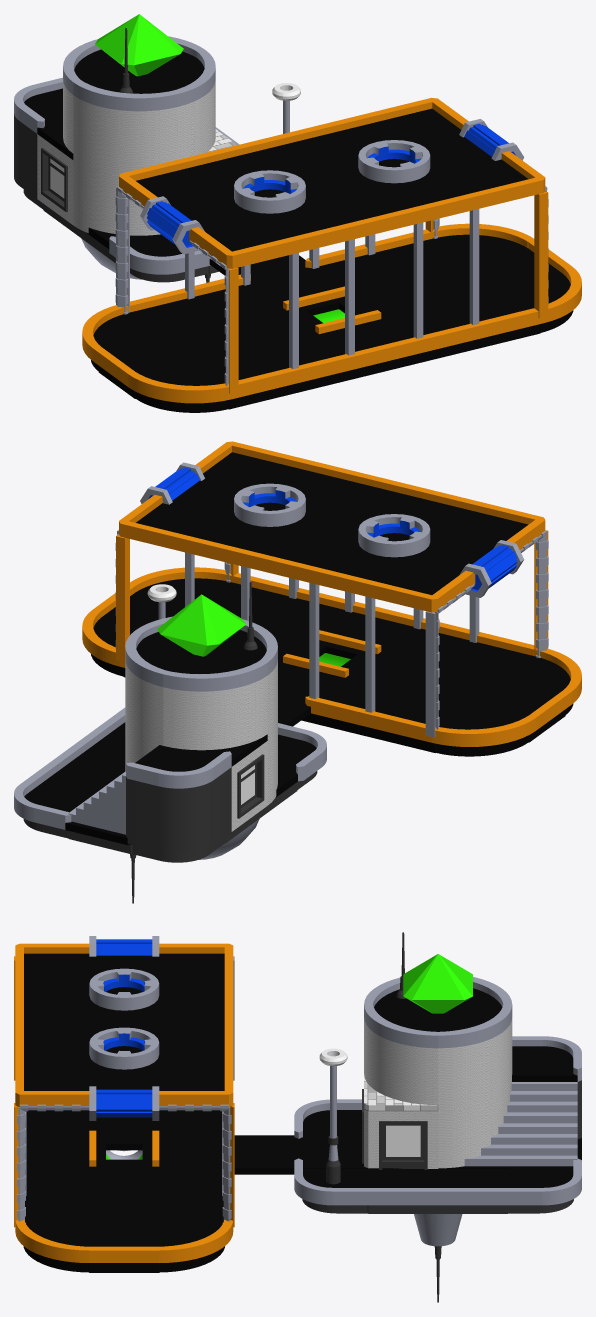
Rendered from MiniStop.obj.
3 renders of one model, top to bottom at view 1: azimuth 30°, elevation 25°; view 2: azimuth 150°, elevation 25°; view 3: azimuth 270°, elevation 25°, orthographic. The views are drawn at different scales.
Parts seen in each view (by area): view 1: roof_flatSide, roof_flatSideRound%, wall_cornerRounded%, roof_flat, roof_flatCorner, columns_large, turbine_edges%, roof_flatSideBevel, wall, quoin_simple, roof_flatHole, clipBarrel_large (+5 smaller); view 2: roof_flatSide, roof_flatSideRound%, roof_flatCorner, wall_cornerRounded%, roof_flat, roof_flatSideBevel, wall_cornerBevel, turbine_edges%, columns_large, quoin_simple, diamond_bevel, clipBarrel_large (+6 smaller); view 3: roof_flatSide, roof_flat, wall_cornerRounded%, roof_flatSideRound%, roof_flatCorner, roof_flatSideBevel, stairs_small%, turbine_edges%, window_large, roof_flatHole, clipBarrel_large, diamond_bevel (+8 smaller).
Boxes of the visible parts, x1=… form: roof_flatSide: x1=92, y1=113, x2=571, y2=398; roof_flatSideRound%: x1=63, y1=36, x2=581, y2=403; wall_cornerRounded%: x1=63, y1=80, x2=573, y2=412; roof_flat: x1=37, y1=119, x2=505, y2=363; roof_flatCorner: x1=119, y1=97, x2=545, y2=268; columns_large: x1=185, y1=209, x2=479, y2=368; turbine_edges%: x1=234, y1=140, x2=430, y2=213; roof_flatSideBevel: x1=14, y1=77, x2=231, y2=274; wall: x1=43, y1=204, x2=540, y2=409; quoin_simple: x1=116, y1=186, x2=548, y2=393; roof_flatHole: x1=155, y1=269, x2=492, y2=363; clipBarrel_large: x1=140, y1=119, x2=524, y2=254; roof_flatSide: x1=38, y1=456, x2=571, y2=794; roof_flatSideRound%: x1=82, y1=567, x2=581, y2=746; roof_flatCorner: x1=119, y1=441, x2=545, y2=612; wall_cornerRounded%: x1=91, y1=654, x2=573, y2=805; roof_flat: x1=65, y1=502, x2=503, y2=845; roof_flatSideBevel: x1=14, y1=707, x2=326, y2=829; wall_cornerBevel: x1=23, y1=767, x2=317, y2=862; turbine_edges%: x1=234, y1=483, x2=430, y2=557; columns_large: x1=185, y1=552, x2=479, y2=712; quoin_simple: x1=116, y1=530, x2=548, y2=737; diamond_bevel: x1=157, y1=594, x2=245, y2=656; clipBarrel_large: x1=140, y1=462, x2=524, y2=597; roof_flatSide: x1=15, y1=944, x2=512, y2=1262; roof_flat: x1=85, y1=979, x2=581, y2=1226; wall_cornerRounded%: x1=23, y1=1018, x2=512, y2=1272; roof_flatSideRound%: x1=15, y1=977, x2=512, y2=1262; roof_flatCorner: x1=15, y1=943, x2=233, y2=1106; roof_flatSideBevel: x1=294, y1=1036, x2=581, y2=1205; stairs_small%: x1=464, y1=1082, x2=577, y2=1166; turbine_edges%: x1=89, y1=968, x2=159, y2=1069; window_large: x1=364, y1=1110, x2=438, y2=1169; roof_flatHole: x1=85, y1=1135, x2=163, y2=1227; clipBarrel_large: x1=89, y1=936, x2=159, y2=1120; diamond_bevel: x1=403, y1=954, x2=472, y2=1013.
Bounding box in the file's own units: 7.13 × 5.1 × 8.15.
